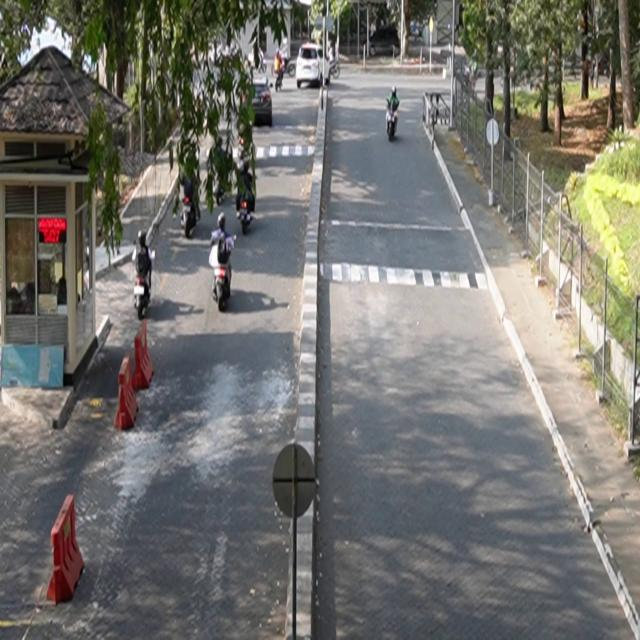car: (297, 43, 332, 89), (243, 76, 274, 127)
